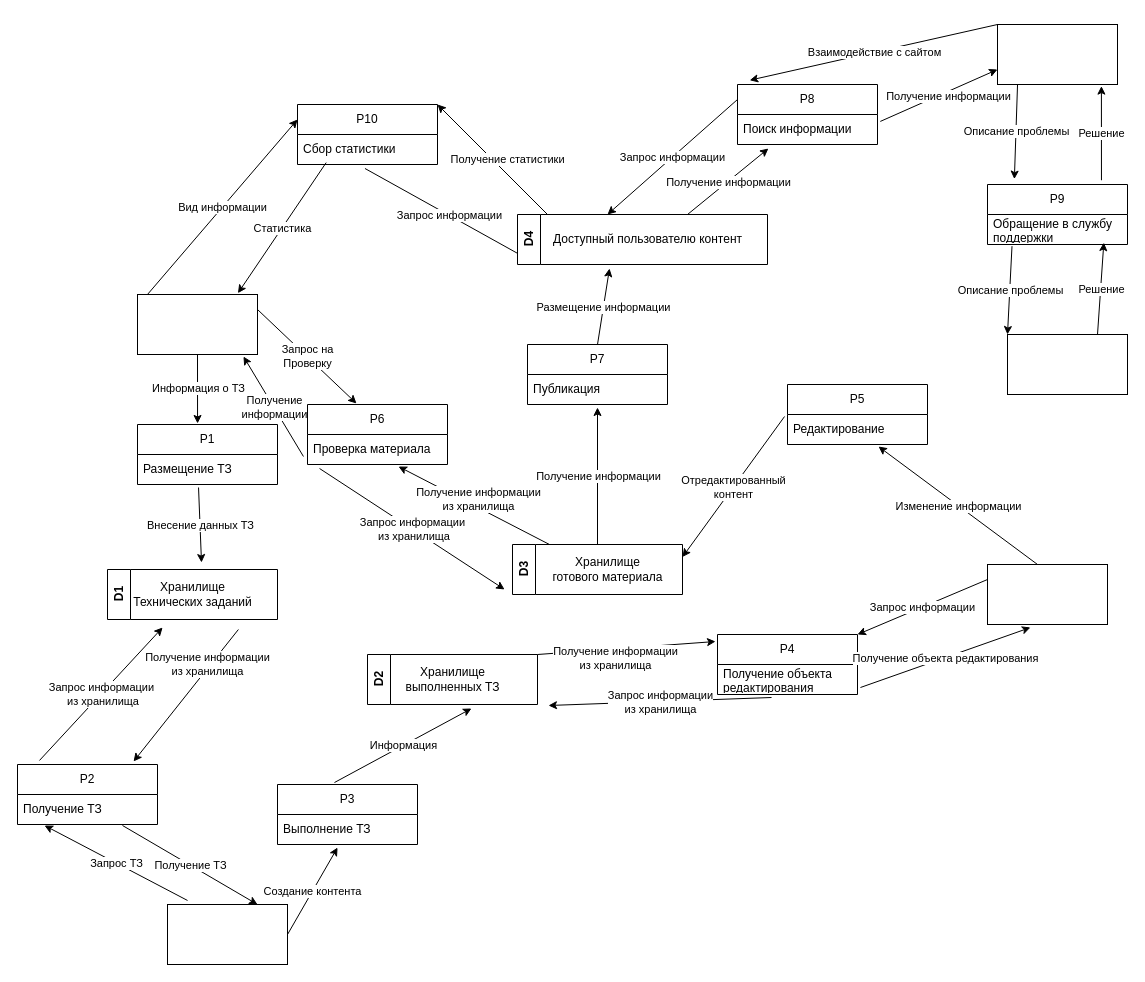
Image size: 1145x982. Some labels were removed from this diagram. The centre of each missing label's shape, as x and y in pixels:
Контент-мейкер: the point at 227,934
Модератор: the point at 197,324
Пользователь: the point at 1057,54
Редактор: the point at 1047,594
Служба поддержки: the point at 1067,364
